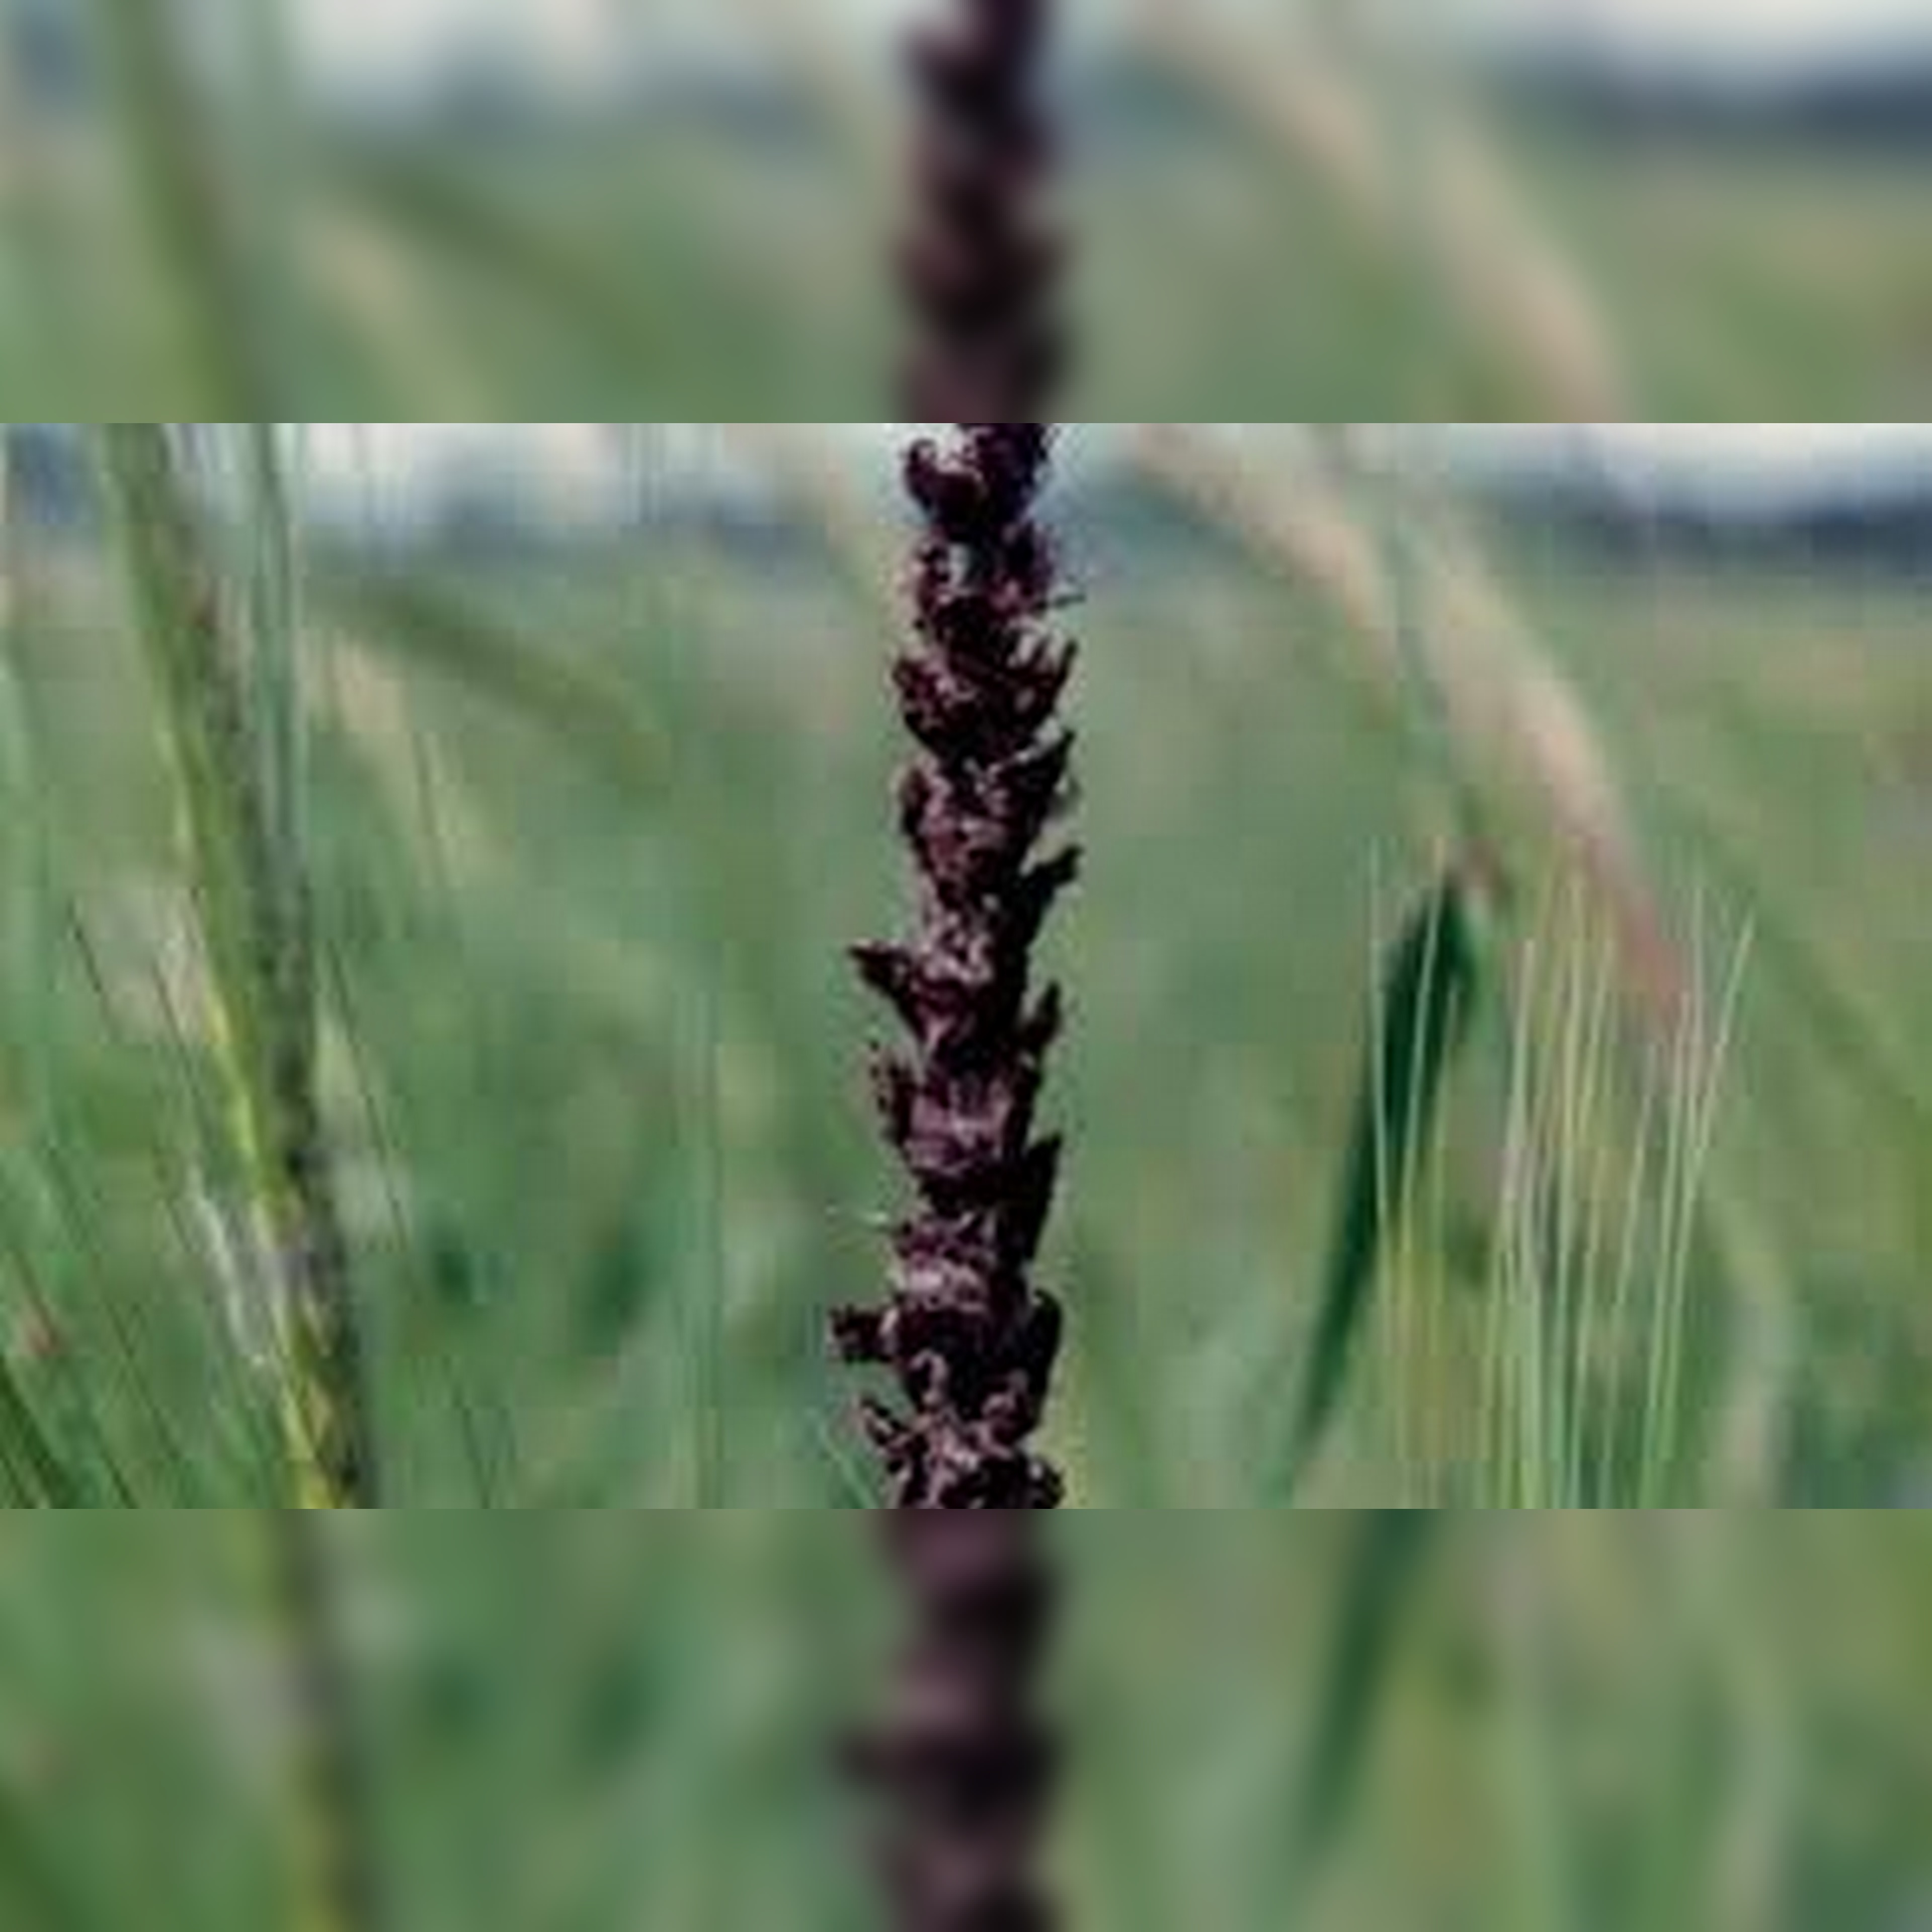Wheat Loose Smut: (805, 423, 1125, 1520)
